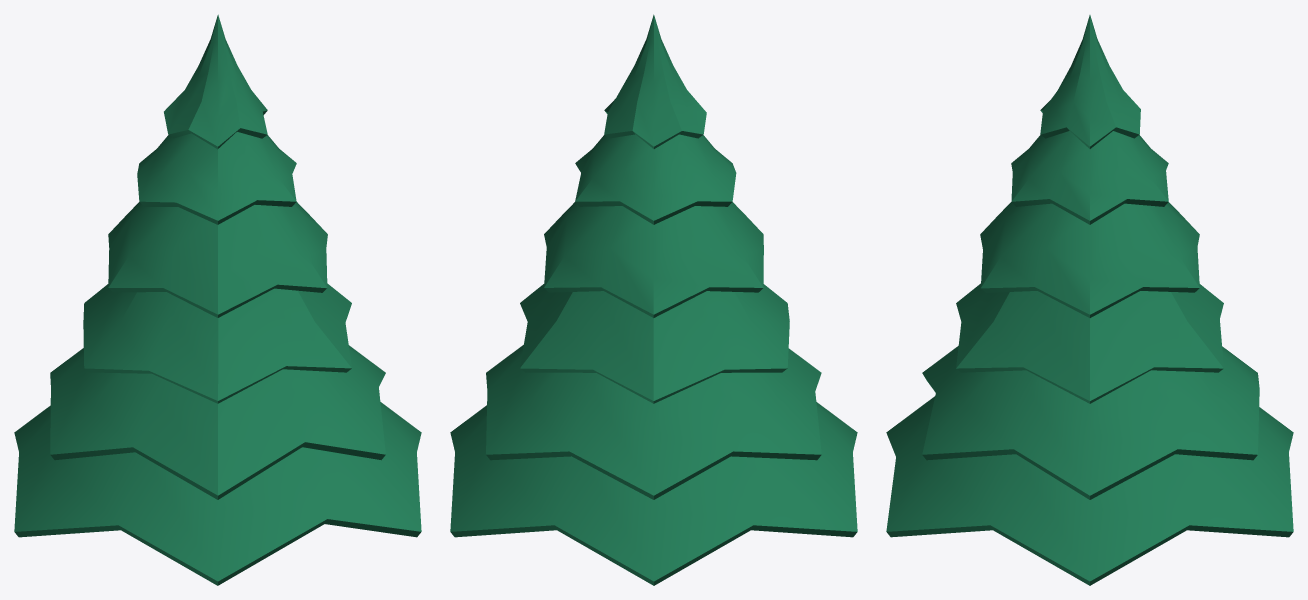
File: Christmas tree2.fbx
3 views of the same model, side by side, from view 1: azimuth 30°, elevation 25°; view 2: azimuth 150°, elevation 25°; view 3: azimuth 270°, elevation 25° (orthographic).
Parts seen in each view (by area): view 1: tree2; view 2: tree2; view 3: tree2.
Boxes of the visible parts, x1,y1,x2,y2 form: tree2: [14, 14, 421, 585]; tree2: [450, 14, 857, 585]; tree2: [886, 15, 1293, 585].
Bounding box in the file's own units: 537 × 628 × 465.
